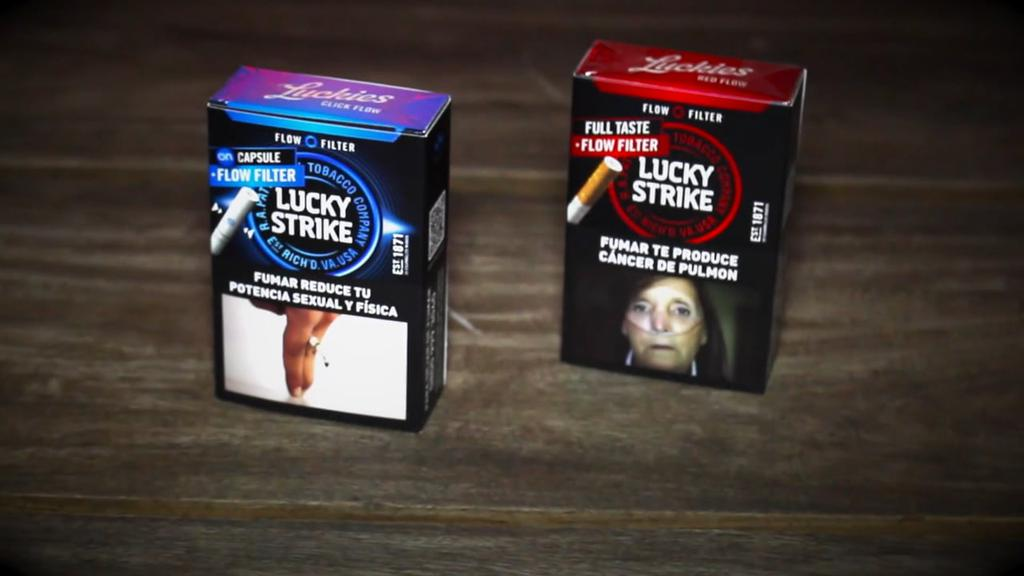lucky_strike_red: (565, 89, 781, 368)
